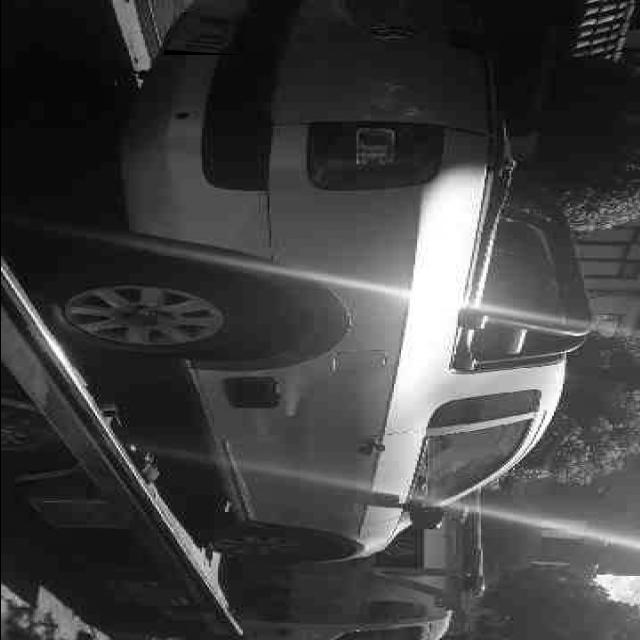plate: (163, 12, 242, 54)
